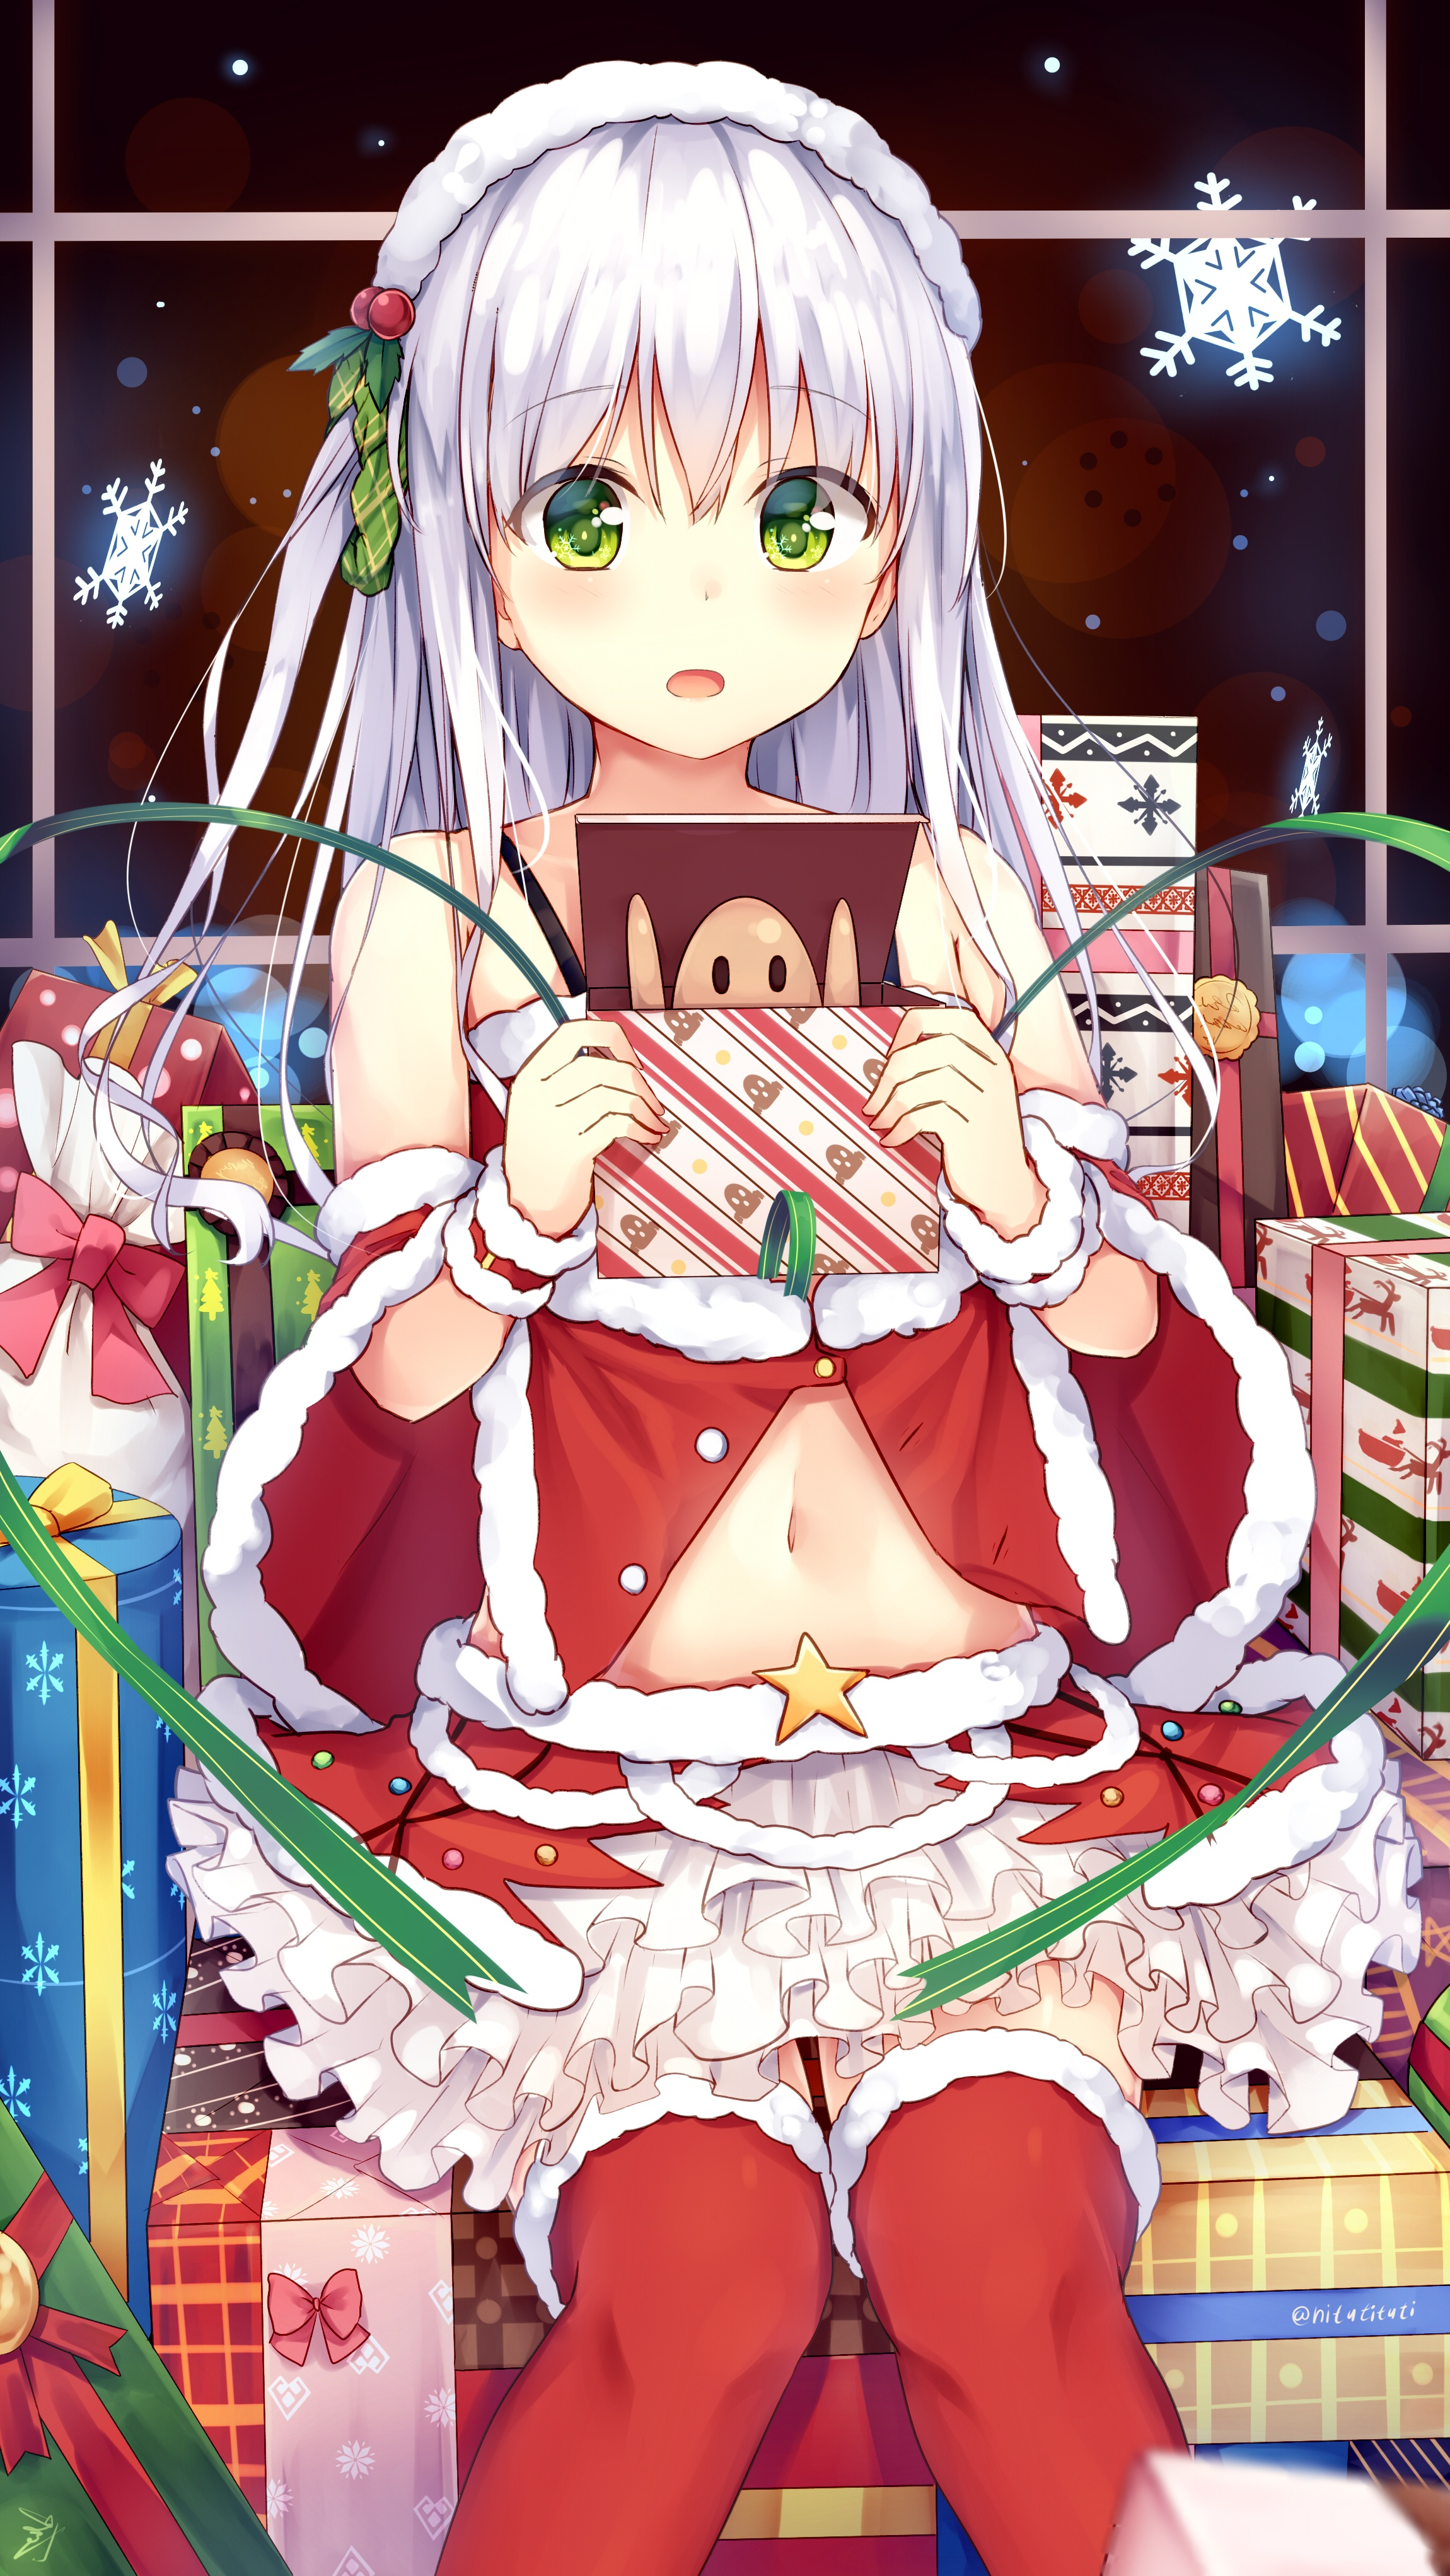纸片人正脸: (342, 50, 989, 786)
